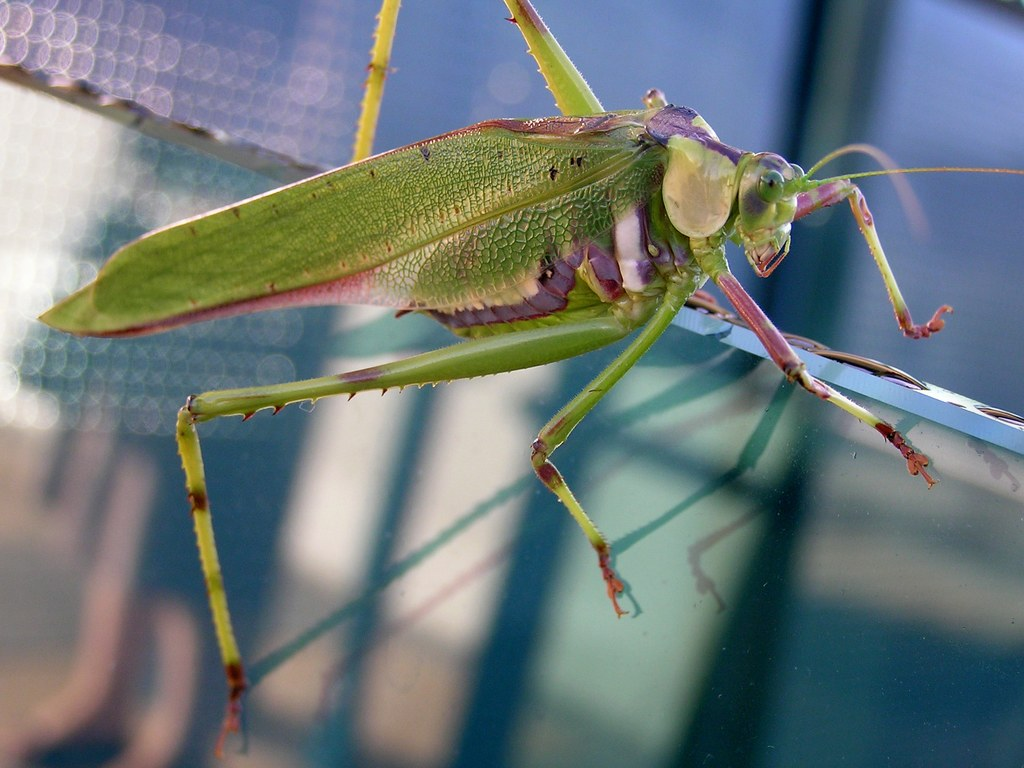insect: (36, 0, 1023, 755)
